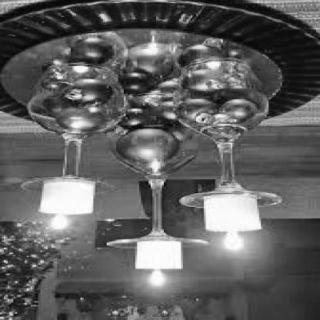Fire: (136, 268, 178, 296), (215, 230, 249, 254), (46, 212, 73, 236)
